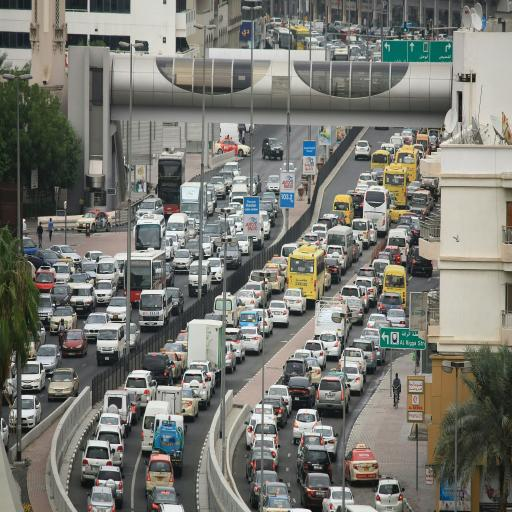bike: (393, 387, 399, 408)
car: (96, 425, 126, 470), (345, 445, 379, 484), (94, 466, 124, 508), (297, 446, 331, 482), (250, 470, 282, 508), (125, 370, 156, 408), (317, 375, 348, 413), (301, 469, 331, 508), (145, 453, 173, 494), (182, 370, 211, 409), (142, 352, 174, 385), (48, 368, 79, 401), (373, 479, 404, 511), (147, 486, 184, 511), (288, 374, 315, 408), (339, 348, 366, 381), (313, 425, 338, 460), (361, 328, 385, 364), (341, 358, 364, 395), (93, 413, 127, 437), (354, 277, 377, 312), (322, 486, 354, 511), (160, 349, 184, 382), (70, 284, 96, 314), (76, 211, 113, 232), (36, 344, 61, 375), (266, 385, 291, 415), (407, 247, 432, 277), (265, 396, 288, 428), (50, 307, 77, 334), (84, 313, 109, 342), (246, 271, 271, 300), (245, 404, 261, 449), (320, 330, 344, 360), (283, 357, 309, 384), (62, 329, 87, 357), (87, 486, 115, 511), (22, 361, 45, 391), (50, 245, 82, 266), (226, 328, 245, 362), (326, 245, 348, 274), (304, 340, 326, 369), (261, 483, 291, 504), (283, 288, 306, 315), (263, 433, 280, 468), (215, 139, 250, 156), (298, 432, 325, 454), (136, 198, 163, 220), (28, 250, 59, 269), (241, 326, 262, 354), (217, 244, 241, 268), (378, 293, 403, 315), (182, 388, 198, 421), (269, 301, 289, 327), (50, 284, 72, 307), (35, 267, 55, 292), (106, 297, 126, 322), (38, 294, 55, 323), (167, 288, 185, 315), (346, 297, 364, 324), (326, 258, 345, 283), (255, 309, 273, 335), (305, 358, 321, 387), (173, 249, 193, 272), (68, 273, 95, 290), (261, 496, 291, 511), (128, 390, 141, 424), (262, 138, 283, 159), (268, 255, 287, 278), (238, 290, 259, 310), (387, 309, 408, 328), (348, 191, 363, 217), (260, 201, 275, 227), (262, 192, 278, 216), (78, 260, 97, 280), (210, 176, 226, 199), (55, 257, 76, 274), (225, 341, 236, 373), (0, 418, 10, 450), (355, 140, 371, 160), (166, 233, 180, 254), (280, 243, 299, 258), (185, 239, 199, 259), (207, 183, 217, 209), (130, 323, 140, 349), (266, 175, 280, 193), (23, 237, 37, 255), (367, 314, 385, 328), (237, 233, 249, 254), (229, 214, 242, 233), (375, 251, 394, 264), (233, 175, 249, 190), (223, 162, 240, 176), (303, 233, 320, 247), (407, 181, 420, 199), (354, 234, 363, 259), (164, 238, 174, 260), (175, 330, 187, 348), (262, 212, 270, 239), (292, 349, 314, 358), (369, 221, 377, 245), (166, 263, 174, 287), (253, 172, 261, 194), (374, 320, 391, 329), (281, 162, 296, 171), (324, 272, 331, 289)
